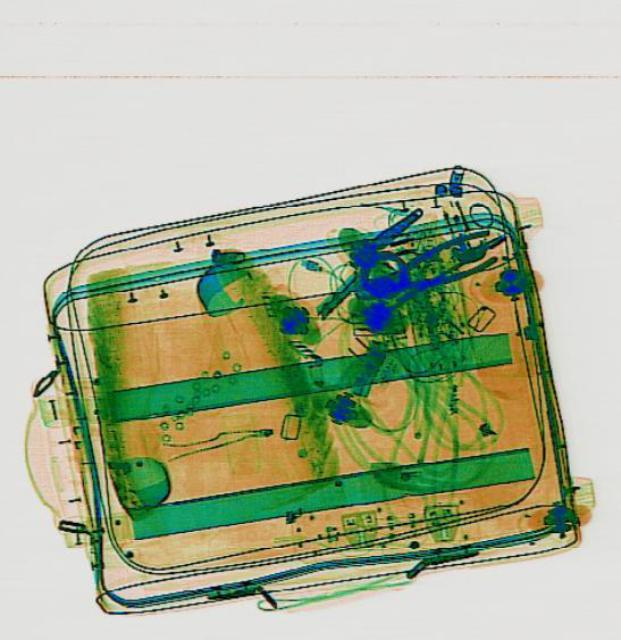Pliers: (351, 223, 500, 309)
